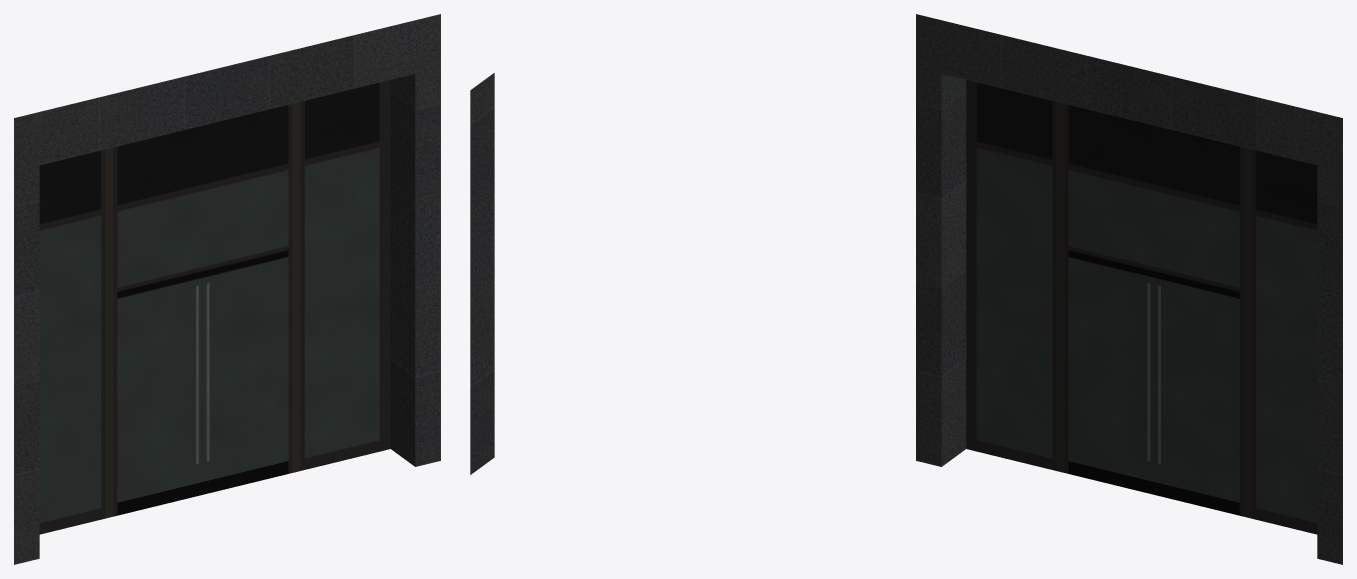
File: door.gltf
3 views of the same model, side by side, from view 1: azimuth 30°, elevation 25°; view 2: azimuth 150°, elevation 25°; view 3: azimuth 330°, elevation 25° (orthographic). The views are drawn at different scales.
Parts seen in each view (by area): view 1: door; view 2: door; view 3: door.
Boxes of the visible parts, left/top/right/bottom form: door: left=14, top=14, right=440, bottom=564; door: left=470, top=73, right=494, bottom=474; door: left=916, top=14, right=1342, bottom=564.
Bounding box in the file's own units: 5 × 5 × 0.5.
2 materials, 2 textured.
